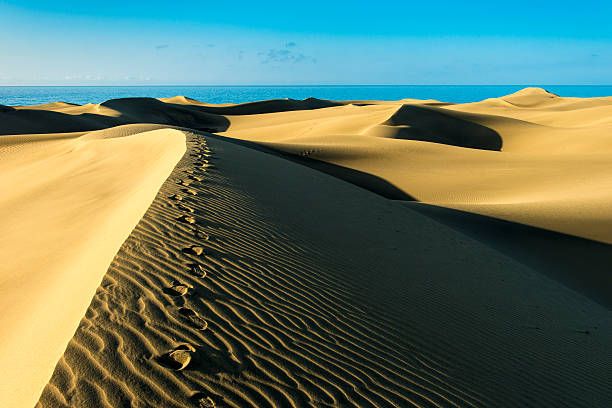human_foot_print: (158, 344, 194, 370), (178, 307, 207, 329), (163, 281, 189, 296), (191, 392, 215, 407), (189, 263, 206, 277), (182, 245, 203, 255), (194, 227, 209, 239), (176, 203, 193, 212), (177, 215, 195, 223), (177, 179, 190, 186), (183, 188, 196, 195), (188, 175, 202, 181), (170, 194, 183, 200), (184, 169, 194, 173)
